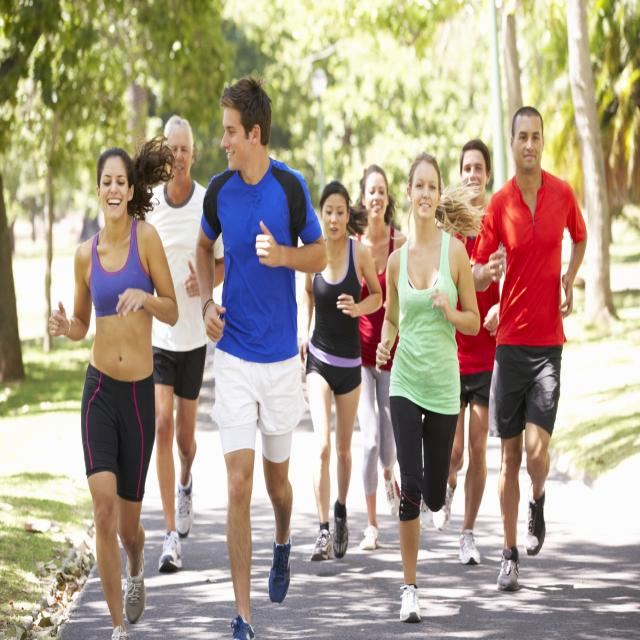body: (192, 68, 333, 640), (44, 132, 182, 640), (469, 105, 588, 592), (371, 144, 483, 629), (143, 113, 227, 574), (296, 177, 387, 568), (429, 132, 507, 572), (347, 162, 408, 552)
